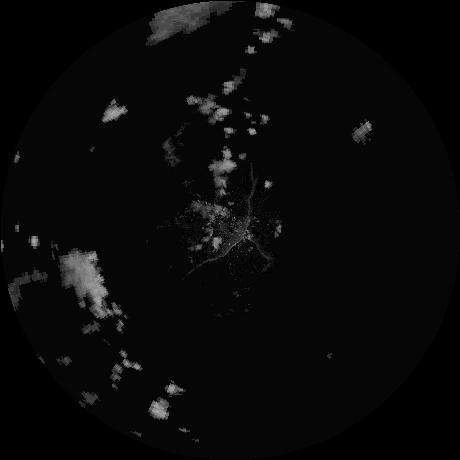frontgust: (194, 164, 256, 273)
